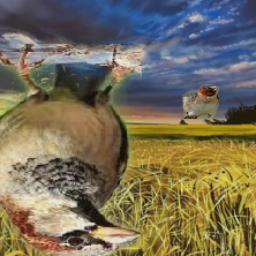Sparrow: (0, 45, 143, 256)
Swallow: (182, 84, 220, 119)
